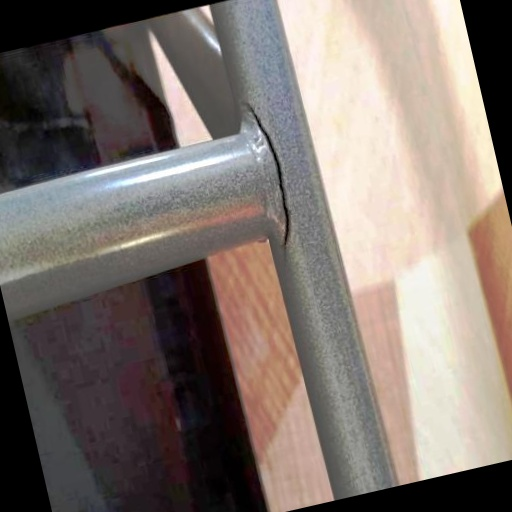crack: (223, 85, 312, 267)
